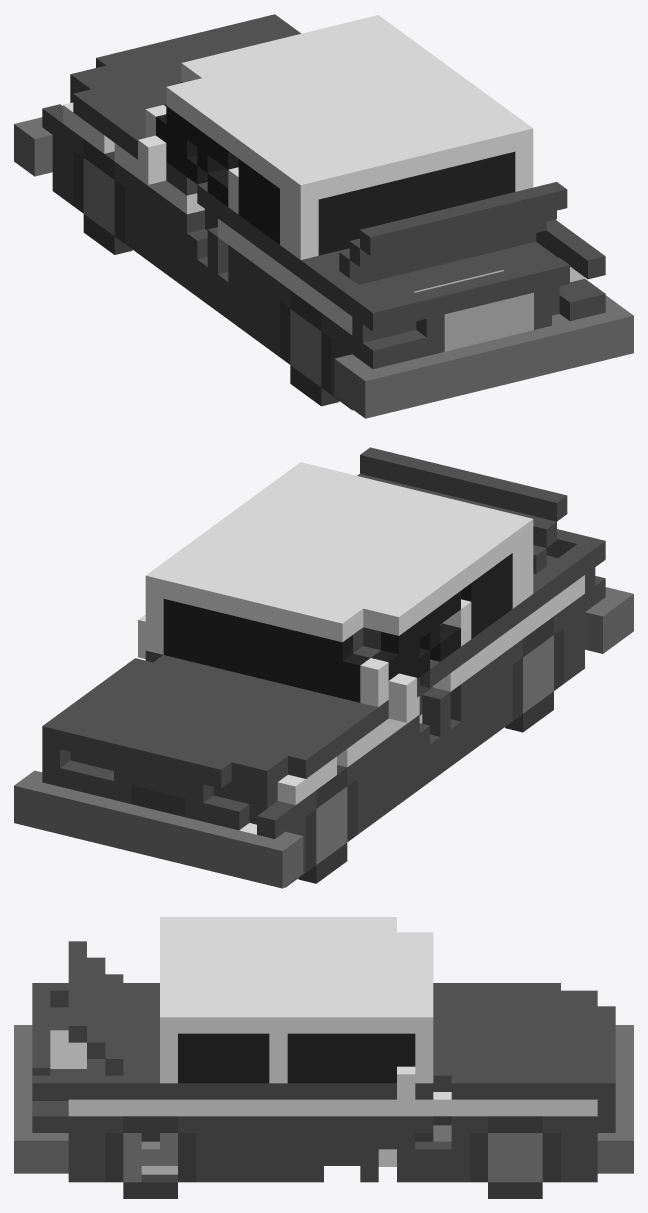
The model's file is cars.obj.
3 renders of one model, top to bottom at view 1: azimuth 30°, elevation 25°; view 2: azimuth 150°, elevation 25°; view 3: azimuth 270°, elevation 25°, orthographic. The views are drawn at different scales.
Bounding box in the file's own units: 1.5 × 1.1 × 3.4.
Materials: 1 (1 with a texture image).
